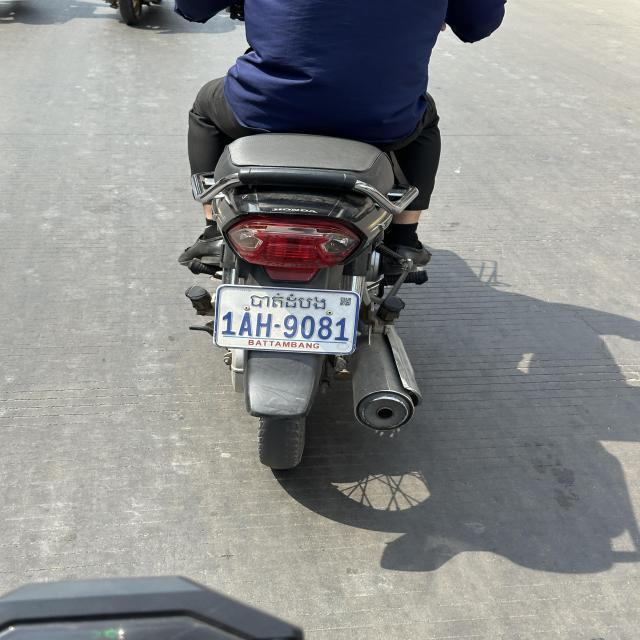Battambang: (248, 292, 328, 314)
